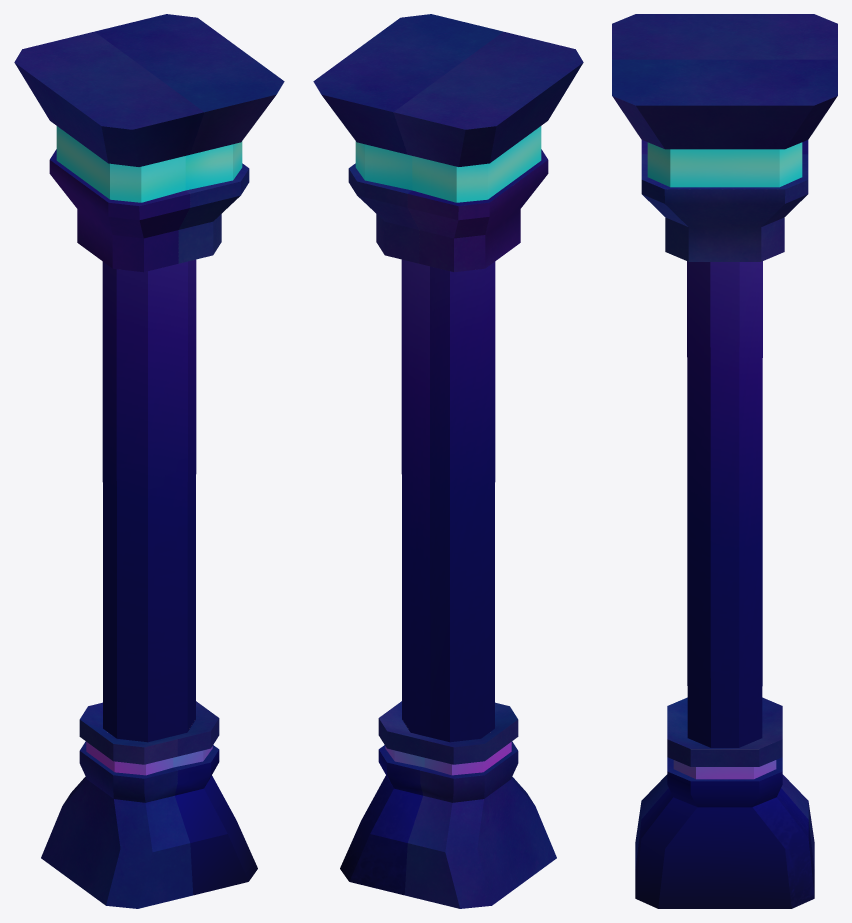
File: VIGA_VARIANTE_R.obj
The picture shows the model from 3 angles, left to right: view 1: azimuth 30°, elevation 25°; view 2: azimuth 150°, elevation 25°; view 3: azimuth 270°, elevation 25°; orthographic projection. The views are drawn at different scales.
Visible parts, largest first — view 1: pCube1_pCube1SG, pCube1_pCube1SG1, pCube1_pCube1SG1_3, pCube1_pCube1SG1_1, pCube1_pCube1SG_27, pCube1_pCube1SG1_9, pCube1_pCube1SG_10, pCube1_pCube1SG_4, pCube1_pCube1SG_9, pCube1_pCube1SG_3, pCube1_pCube1SG_28, pCube1_pCube1SG1_2 (+11 smaller); view 2: pCube1_pCube1SG, pCube1_pCube1SG1_7, pCube1_pCube1SG1_5, pCube1_pCube1SG1_8, pCube1_pCube1SG_27, pCube1_pCube1SG_16, pCube1_pCube1SG_25, pCube1_pCube1SG1_9, pCube1_pCube1SG_21, pCube1_pCube1SG_28, pCube1_pCube1SG1_4, pCube1_pCube1SG_22 (+12 smaller); view 3: pCube1_pCube1SG, pCube1_pCube1SG1_6, pCube1_pCube1SG_18, pCube1_pCube1SG_19, pCube1_pCube1SG1_2, pCube1_pCube1SG1_4, pCube1_pCube1SG_12, pCube1_pCube1SG2_12, pCube1_pCube1SG_6, pCube1_pCube1SG_7, pCube1_pCube1SG_13, pCube1_pCube1SG_20 (+8 smaller).
Boxes of the visible parts, x1,y1,x2,y2 form: pCube1_pCube1SG: (14, 14, 284, 908); pCube1_pCube1SG1: (116, 269, 147, 742); pCube1_pCube1SG1_3: (167, 261, 187, 737); pCube1_pCube1SG1_1: (148, 266, 167, 742); pCube1_pCube1SG_27: (41, 719, 120, 905); pCube1_pCube1SG1_9: (102, 261, 116, 738); pCube1_pCube1SG_10: (168, 731, 248, 895); pCube1_pCube1SG_4: (138, 737, 193, 908); pCube1_pCube1SG_9: (178, 94, 276, 263); pCube1_pCube1SG_3: (132, 112, 204, 271); pCube1_pCube1SG_28: (15, 63, 112, 268); pCube1_pCube1SG1_2: (187, 259, 196, 731); pCube1_pCube1SG: (313, 14, 583, 804); pCube1_pCube1SG1_7: (450, 269, 481, 742); pCube1_pCube1SG1_5: (410, 261, 430, 737); pCube1_pCube1SG1_8: (430, 266, 449, 742); pCube1_pCube1SG_27: (408, 190, 556, 905); pCube1_pCube1SG_16: (321, 94, 419, 895); pCube1_pCube1SG_25: (393, 112, 465, 908); pCube1_pCube1SG1_9: (481, 261, 495, 738); pCube1_pCube1SG_21: (349, 163, 491, 908); pCube1_pCube1SG_28: (485, 63, 582, 268); pCube1_pCube1SG1_4: (401, 259, 410, 731); pCube1_pCube1SG_22: (454, 126, 496, 272); pCube1_pCube1SG: (612, 14, 837, 717); pCube1_pCube1SG1_6: (710, 262, 739, 747); pCube1_pCube1SG_18: (658, 154, 808, 908); pCube1_pCube1SG_19: (636, 105, 813, 261); pCube1_pCube1SG1_2: (687, 261, 710, 747); pCube1_pCube1SG1_4: (739, 261, 762, 747); pCube1_pCube1SG_12: (641, 154, 814, 908); pCube1_pCube1SG2_12: (670, 149, 779, 187); pCube1_pCube1SG_6: (635, 140, 710, 908); pCube1_pCube1SG_7: (612, 96, 688, 261); pCube1_pCube1SG_13: (761, 96, 837, 261); pCube1_pCube1SG_20: (664, 189, 785, 203).
Size of the model in its own units: 129 by 532 by 134.
3 materials, 3 textured.
